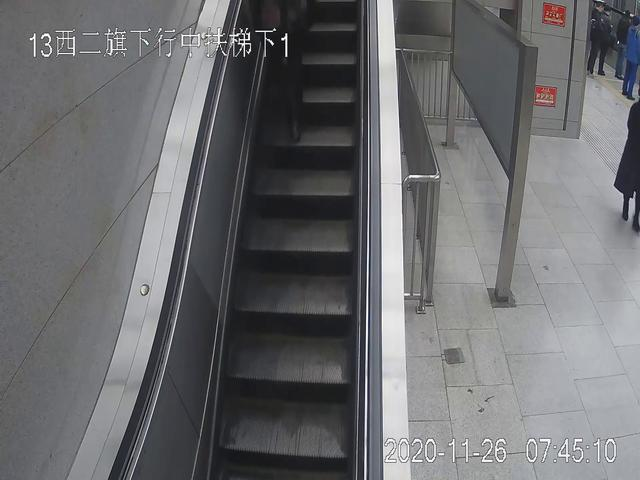person: (622, 16, 640, 100), (591, 3, 609, 78)
